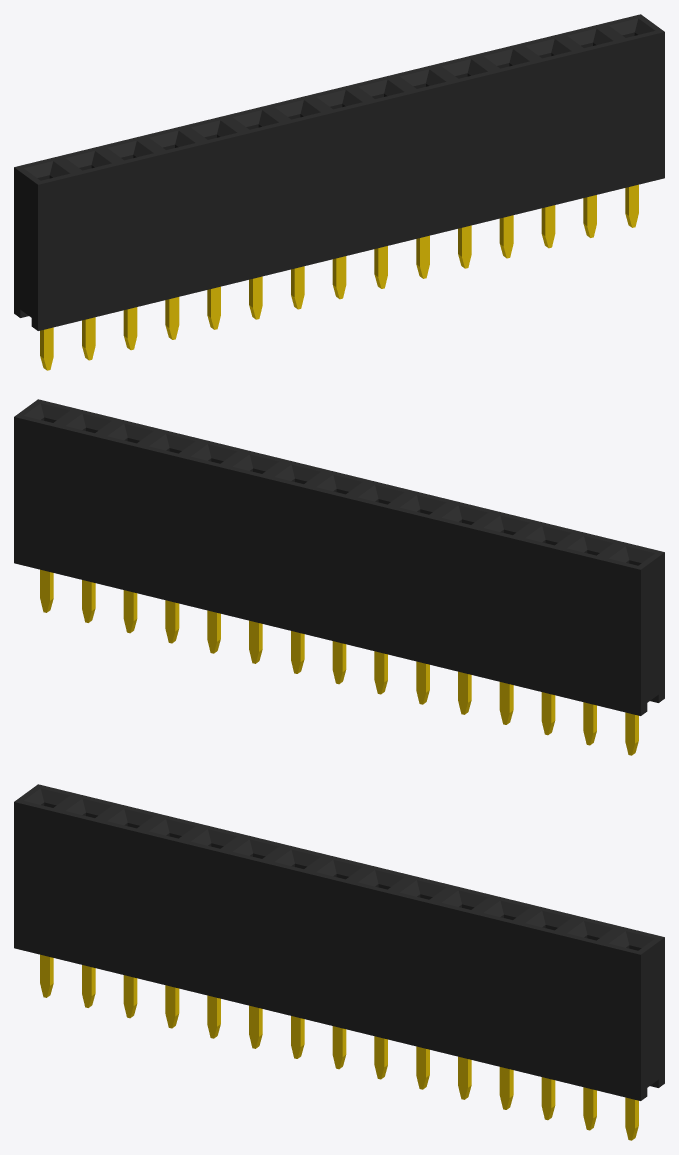
File: PBS15.glb
3 renders of one model, top to bottom at view 1: azimuth 30°, elevation 25°; view 2: azimuth 150°, elevation 25°; view 3: azimuth 330°, elevation 25°, orthographic.
Parts seen in each view (by area): view 1: PBS (DS1023 CONNFLY); view 2: PBS (DS1023 CONNFLY); view 3: PBS (DS1023 CONNFLY).
Boxes of the visible parts, left/top/right/bottom form: PBS (DS1023 CONNFLY): left=14, top=14, right=664, bottom=370; PBS (DS1023 CONNFLY): left=14, top=399, right=664, bottom=755; PBS (DS1023 CONNFLY): left=14, top=784, right=664, bottom=1140.
Size of the model in its own units: 0.0381 by 0.0115 by 0.00254.
